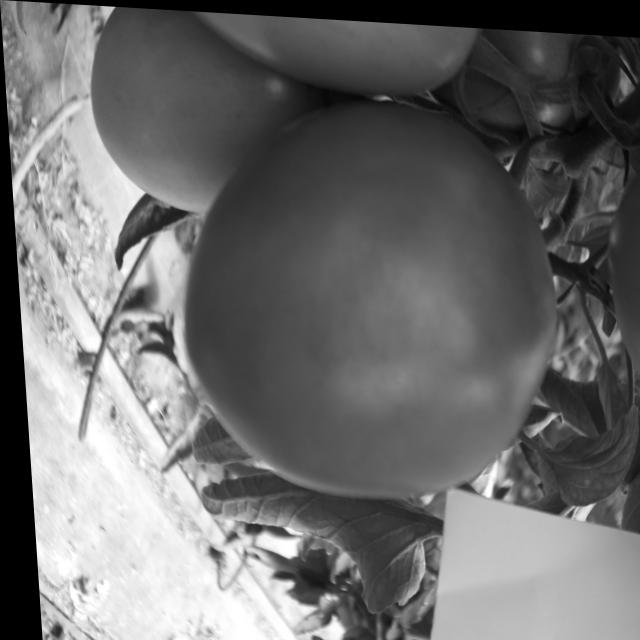yesil: (154, 78, 576, 503)
